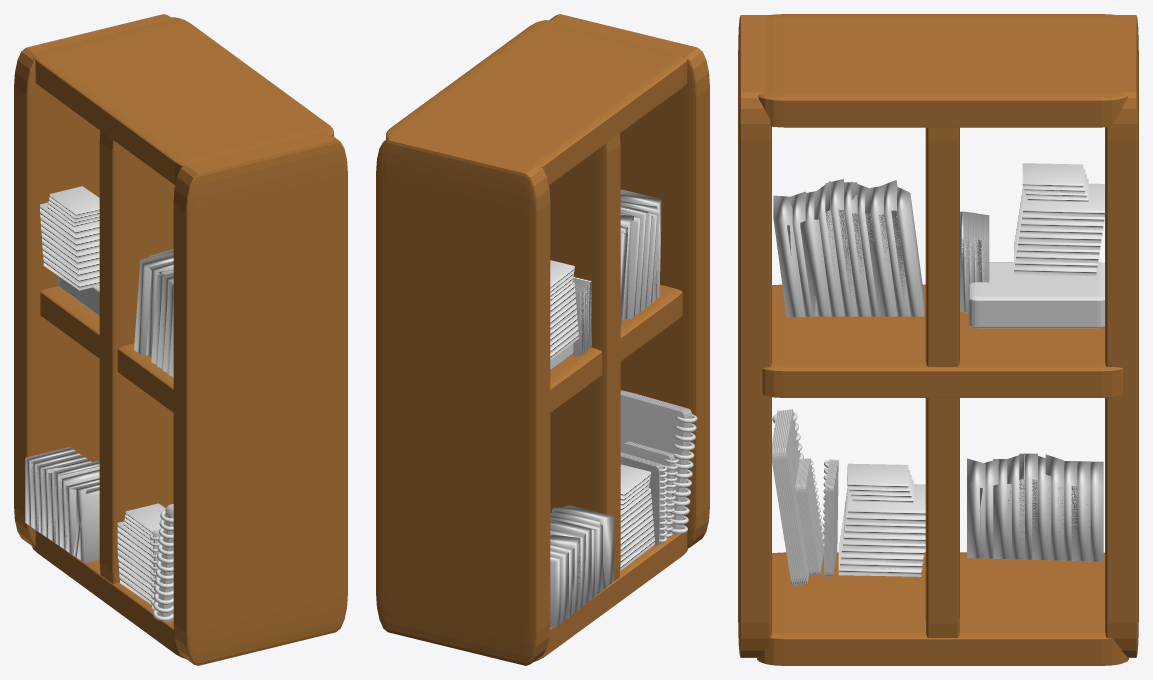
Rendered from wall_shelf.fbx.
3 renders of one model, left to right at view 1: azimuth 30°, elevation 25°; view 2: azimuth 150°, elevation 25°; view 3: azimuth 270°, elevation 25°, orthographic. The views are drawn at different scales.
Visible parts, largest first — view 1: Cube.020, Cube.008, Cube.013, Cube.017, paper.023, Cube.009, paper.022, Cube.021, paper.021, paper.025, book_ring.006, paper.020 (+3 smaller); view 2: Cube.013, Cube.008, Cube.020, Cube.017, paper.023, paper.022, book_ring.006, Cube.009, Cube.021, Cube.007, paper.025, paper.021 (+5 smaller); view 3: Cube.008, Cube.021, Cube.009, Cube.020, Cube.013, paper.022, Cube.017, paper.023, Cube.006, paper.021, paper.025, Cube.007 (+5 smaller).
Part boxes in pixels (x1=…): Cube.020: x1=173, y1=131, x2=347, y2=665; Cube.008: x1=32, y1=17, x2=333, y2=184; Cube.013: x1=14, y1=14, x2=170, y2=547; Cube.017: x1=99, y1=131, x2=175, y2=583; paper.023: x1=25, y1=447, x2=99, y2=563; Cube.009: x1=40, y1=286, x2=173, y2=412; paper.022: x1=134, y1=249, x2=173, y2=377; Cube.021: x1=32, y1=530, x2=185, y2=658; paper.021: x1=40, y1=202, x2=99, y2=290; paper.025: x1=117, y1=521, x2=152, y2=605; book_ring.006: x1=153, y1=504, x2=173, y2=621; paper.020: x1=47, y1=186, x2=99, y2=227; Cube.013: x1=376, y1=134, x2=550, y2=665; Cube.008: x1=386, y1=20, x2=687, y2=184; Cube.020: x1=549, y1=14, x2=709, y2=547; Cube.017: x1=548, y1=133, x2=620, y2=581; paper.023: x1=550, y1=505, x2=614, y2=627; paper.022: x1=620, y1=189, x2=661, y2=326; book_ring.006: x1=620, y1=390, x2=697, y2=535; Cube.009: x1=550, y1=284, x2=682, y2=412; Cube.021: x1=534, y1=532, x2=688, y2=661; Cube.007: x1=620, y1=390, x2=691, y2=534; paper.025: x1=620, y1=488, x2=654, y2=570; paper.021: x1=550, y1=282, x2=578, y2=360; Cube.008: x1=758, y1=14, x2=1127, y2=127; Cube.021: x1=757, y1=552, x2=1128, y2=665; Cube.009: x1=762, y1=284, x2=1123, y2=397; Cube.020: x1=738, y1=15, x2=771, y2=657; Cube.013: x1=1105, y1=15, x2=1138, y2=657; paper.022: x1=773, y1=179, x2=924, y2=317; Cube.017: x1=925, y1=127, x2=959, y2=637; paper.023: x1=967, y1=453, x2=1103, y2=561; Cube.006: x1=968, y1=262, x2=1104, y2=328; paper.021: x1=1014, y1=183, x2=1104, y2=276; paper.025: x1=838, y1=484, x2=925, y2=576; Cube.007: x1=772, y1=409, x2=809, y2=585.
Size of the model in its own units: 982 by 2707 by 1727.
